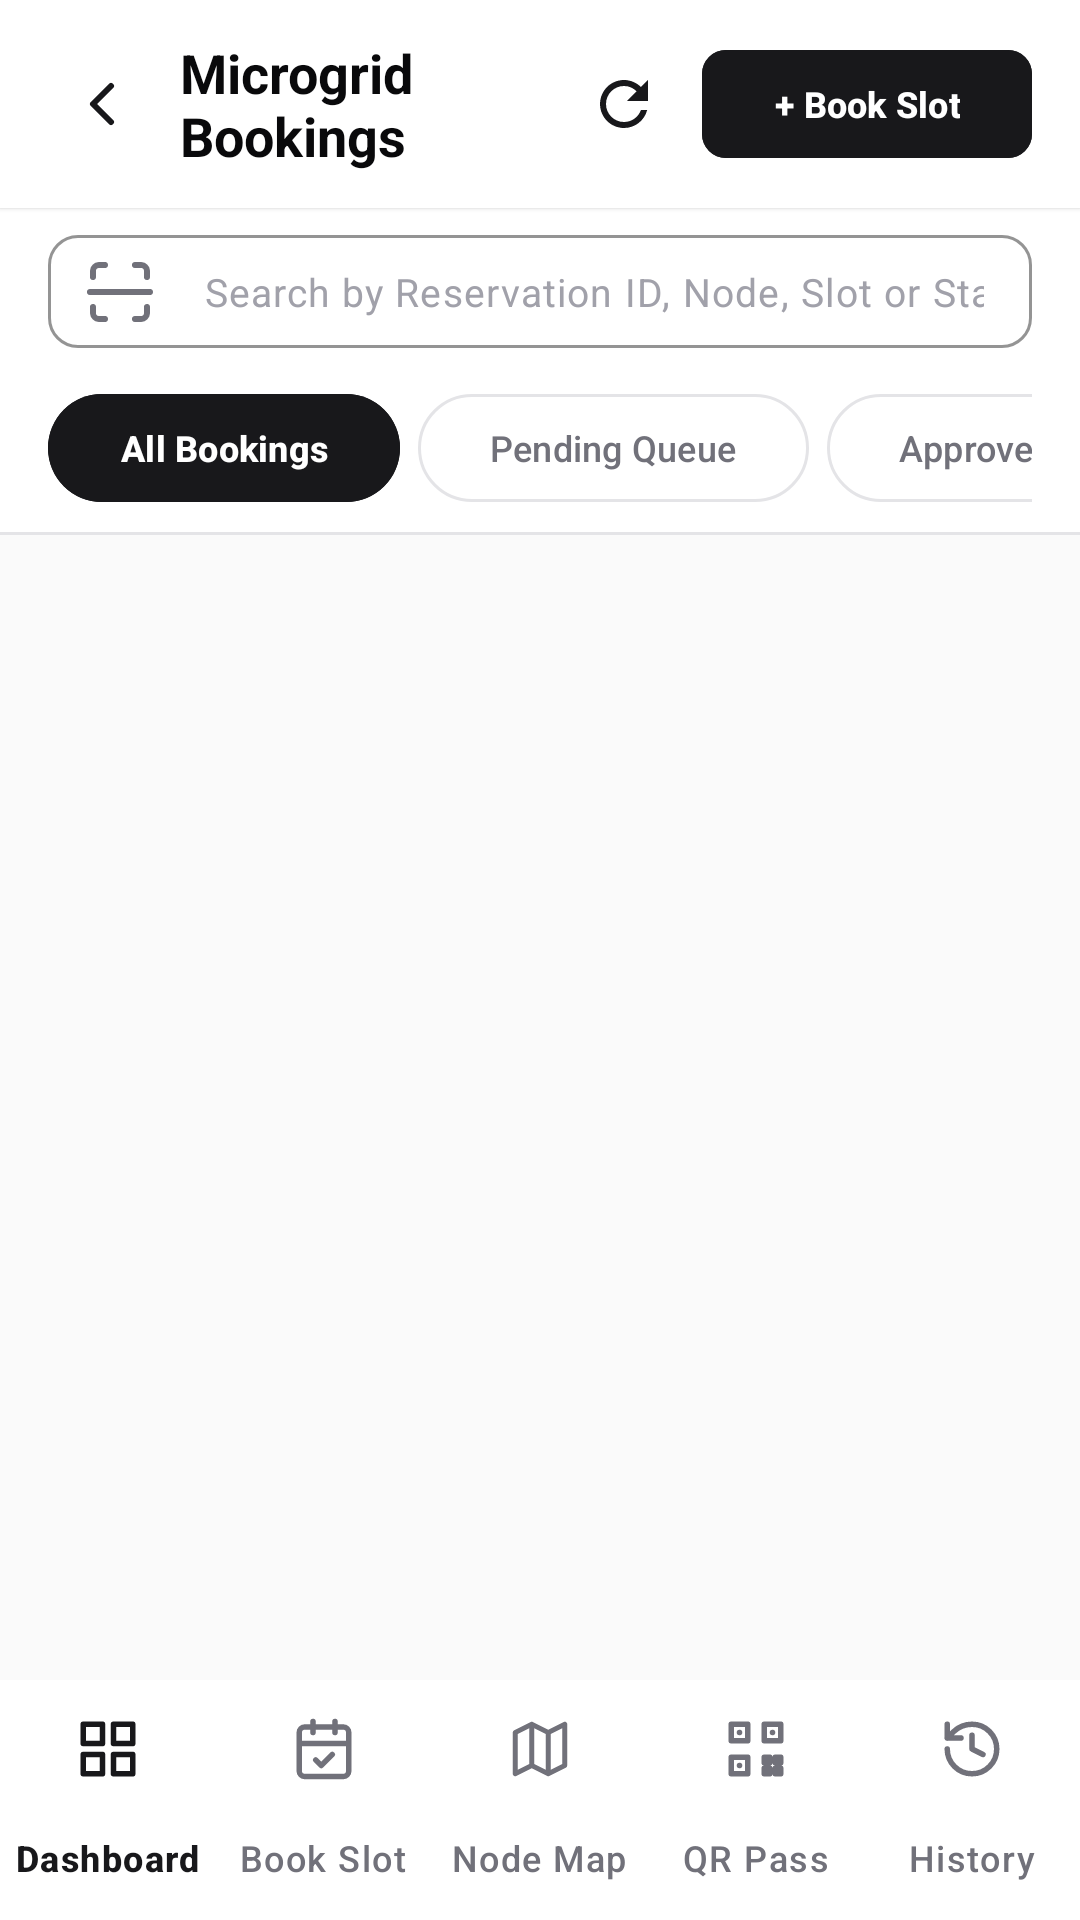

Screen size 1080px×1920px. Icon name, then its box in pixels as bbox(x1, y1, x2, y2):
Back: bbox(90, 83, 114, 125)
Refresh: bbox(600, 80, 648, 128)
